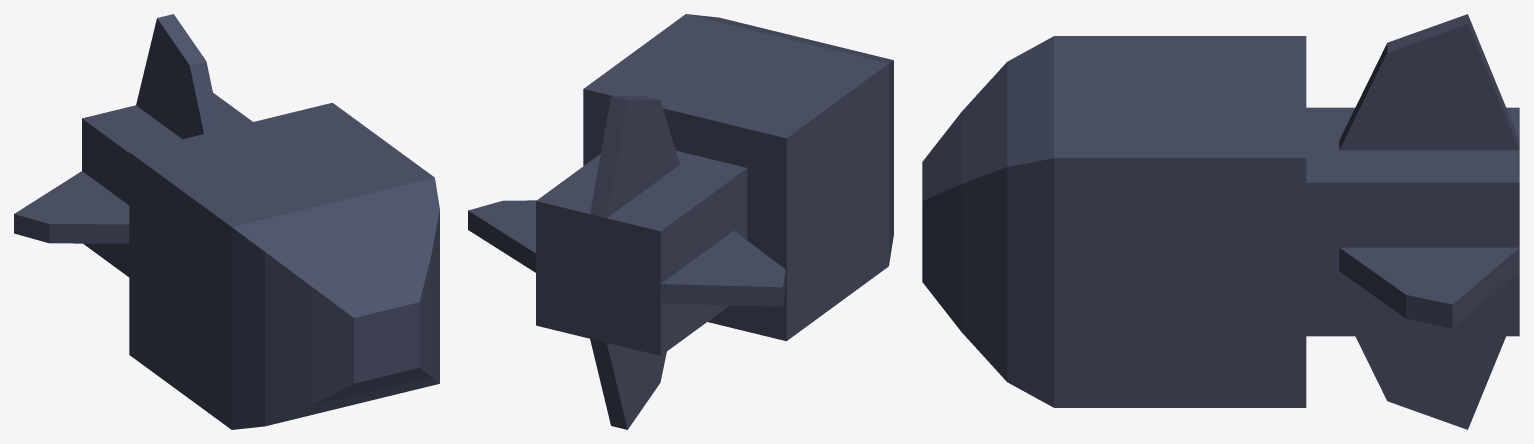
The model's file is rocket.fbx.
The picture shows the model from 3 angles, left to right: view 1: azimuth 30°, elevation 25°; view 2: azimuth 150°, elevation 25°; view 3: azimuth 270°, elevation 25°; orthographic projection. The views are drawn at different scales.
Parts seen in each view (by area): view 1: Cube; view 2: Cube; view 3: Cube.
Part boxes in pixels (x1,y1,x2,y2): Cube: [14, 14, 439, 429]; Cube: [468, 14, 893, 429]; Cube: [922, 14, 1519, 429].
Size of the model in its own units: 244 by 244 by 325.
